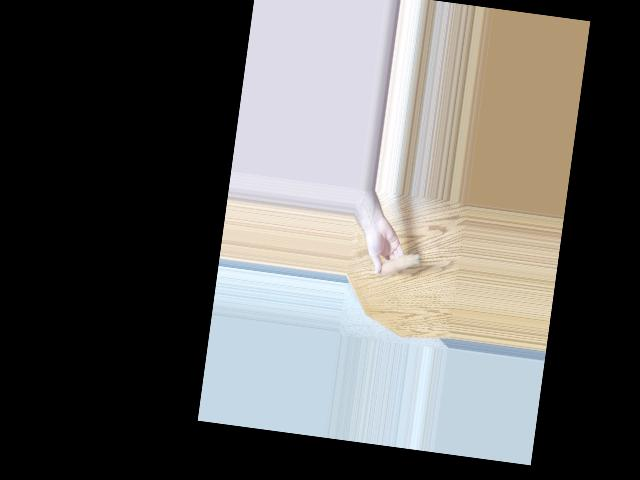sweet_potato: (375, 247, 420, 280)
